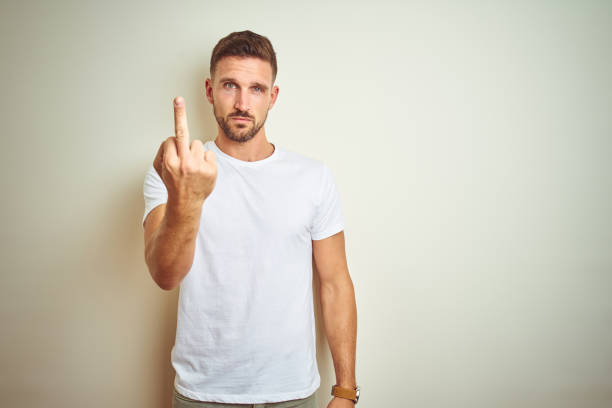insulting_gesture: (153, 94, 220, 199)
